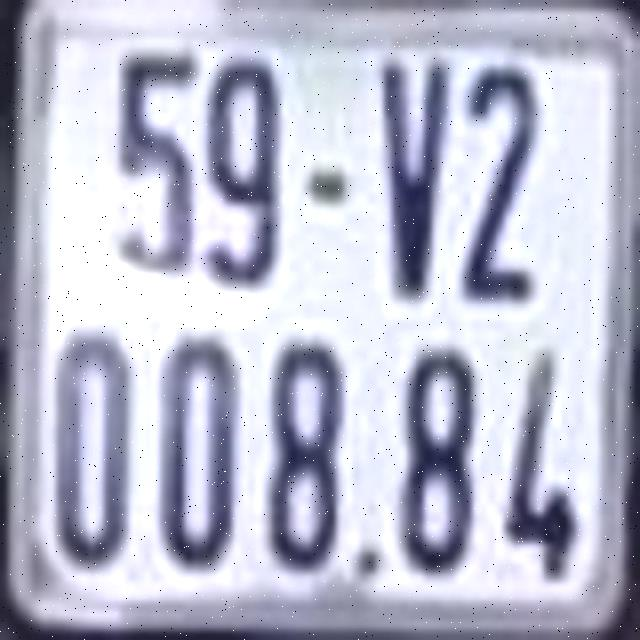0: (52, 331, 132, 565), (159, 334, 237, 569)
2: (462, 62, 538, 306)
4: (505, 347, 580, 582)
5: (114, 48, 198, 277)
8: (268, 338, 342, 571), (402, 348, 475, 573)
9: (205, 53, 282, 290)
V: (377, 54, 452, 300)
